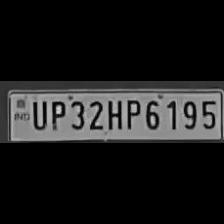1: (163, 97, 179, 131)
2: (86, 96, 104, 132)
3: (67, 97, 85, 131)
5: (198, 97, 216, 131)
6: (141, 97, 161, 131)
9: (179, 97, 197, 131)
H: (104, 96, 122, 130)
P: (47, 96, 65, 132), (123, 96, 141, 130)
U: (29, 97, 47, 131)
